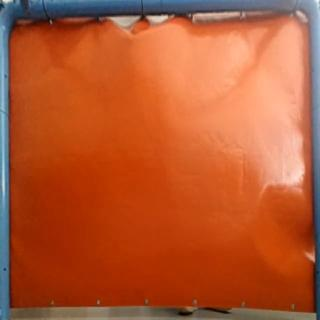Hit-hRxx: (123, 34, 141, 49)
